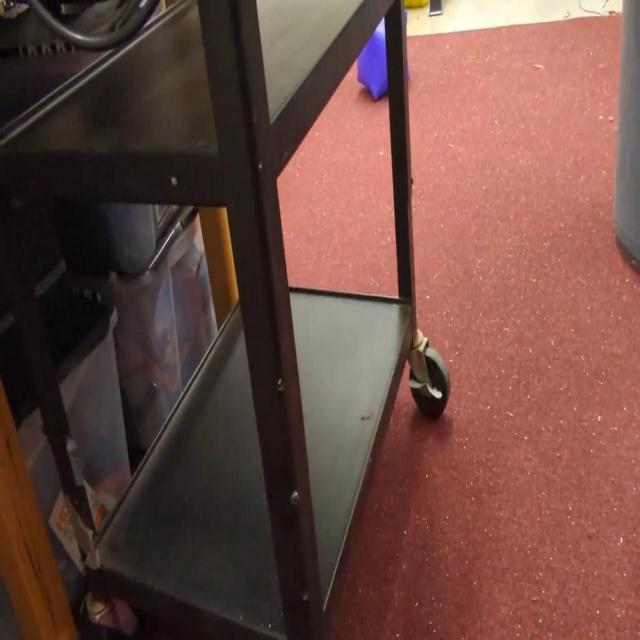frc_cube: (357, 17, 389, 101)
